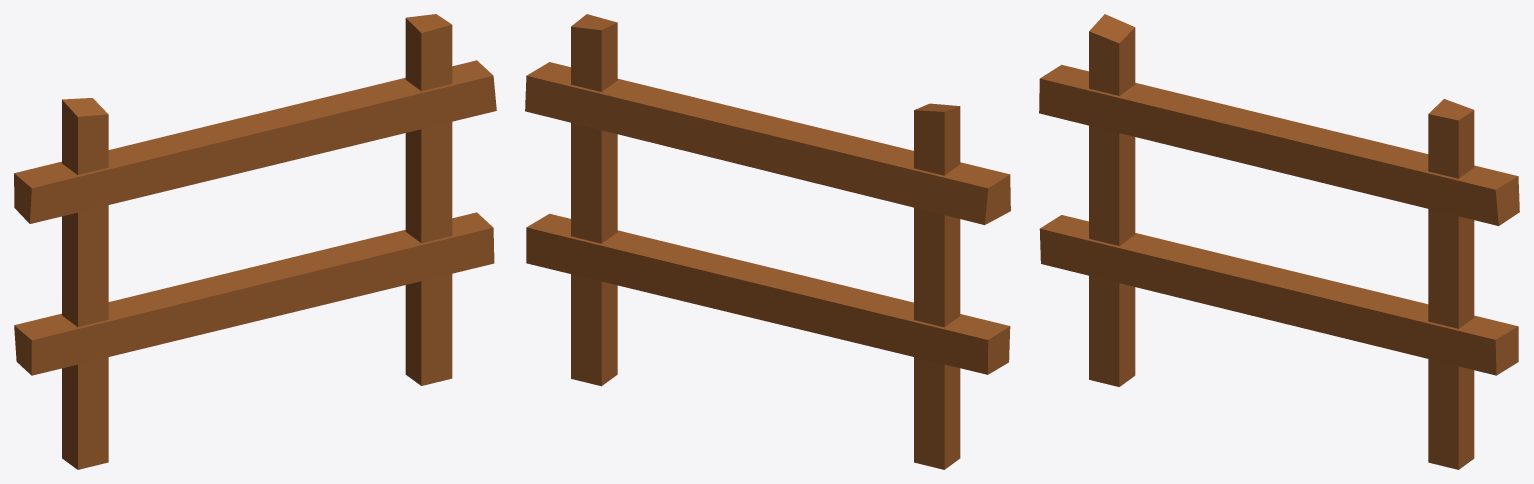
Rendered from woodenFenceLow.fbx.
3 views of the same model, side by side, from view 1: azimuth 30°, elevation 25°; view 2: azimuth 150°, elevation 25°; view 3: azimuth 330°, elevation 25° (orthographic).
Parts seen in each view (by area): view 1: fence; view 2: fence; view 3: fence.
Boxes of the visible parts, x1,y1,x2,y2 form: fence: (14,14,496,469); fence: (525,14,1010,469); fence: (1039,14,1519,469).
Size of the model in its own units: 136 by 99.56 by 10.84.
